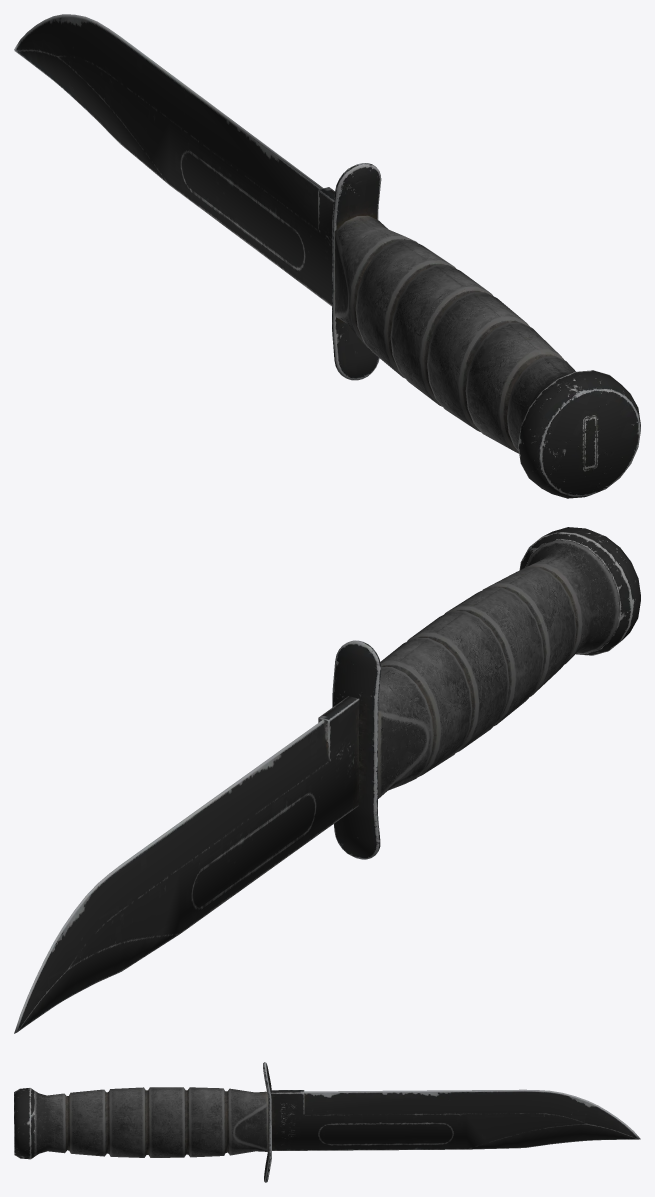
Rendered from kabar.glb.
3 renders of one model, top to bottom at view 1: azimuth 30°, elevation 25°; view 2: azimuth 150°, elevation 25°; view 3: azimuth 270°, elevation 25°, orthographic. The views are drawn at different scales.
Parts seen in each view (by area): view 1: Object_4; view 2: Object_4; view 3: Object_4.
Part boxes in pixels (x1,y1,x2,y2): Object_4: (14,14,640,498); Object_4: (14,527,640,1033); Object_4: (14,1062,640,1182).
Bounding box in the file's own units: 1.84 × 3.32 × 16.01.
Materials: 1 (1 with a texture image).
